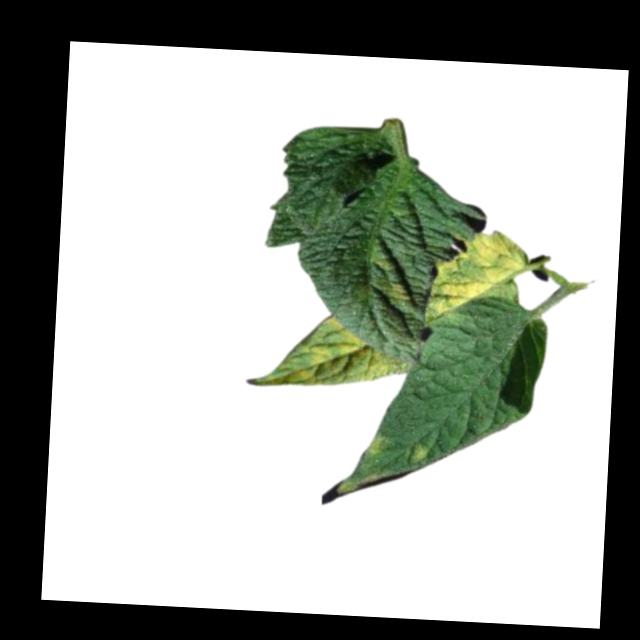Leaf_Mold: (246, 311, 407, 392), (431, 227, 529, 325), (380, 277, 414, 304), (407, 440, 434, 463), (366, 431, 388, 458)
